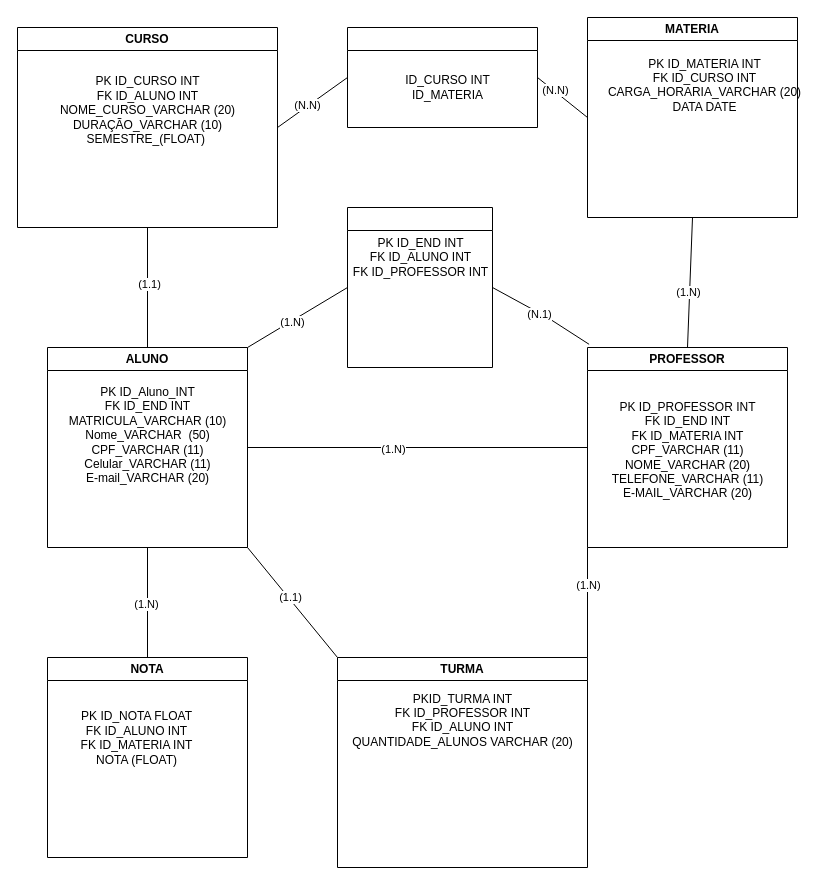
Image size: 832x885. Some labels were removed from this diagram. Here are the shapes that lost their labels. From the top down, the box of each, then its label:
(346, 26, 538, 128): INTERMEDIARIA
(346, 206, 492, 368): ENDEREÇO
